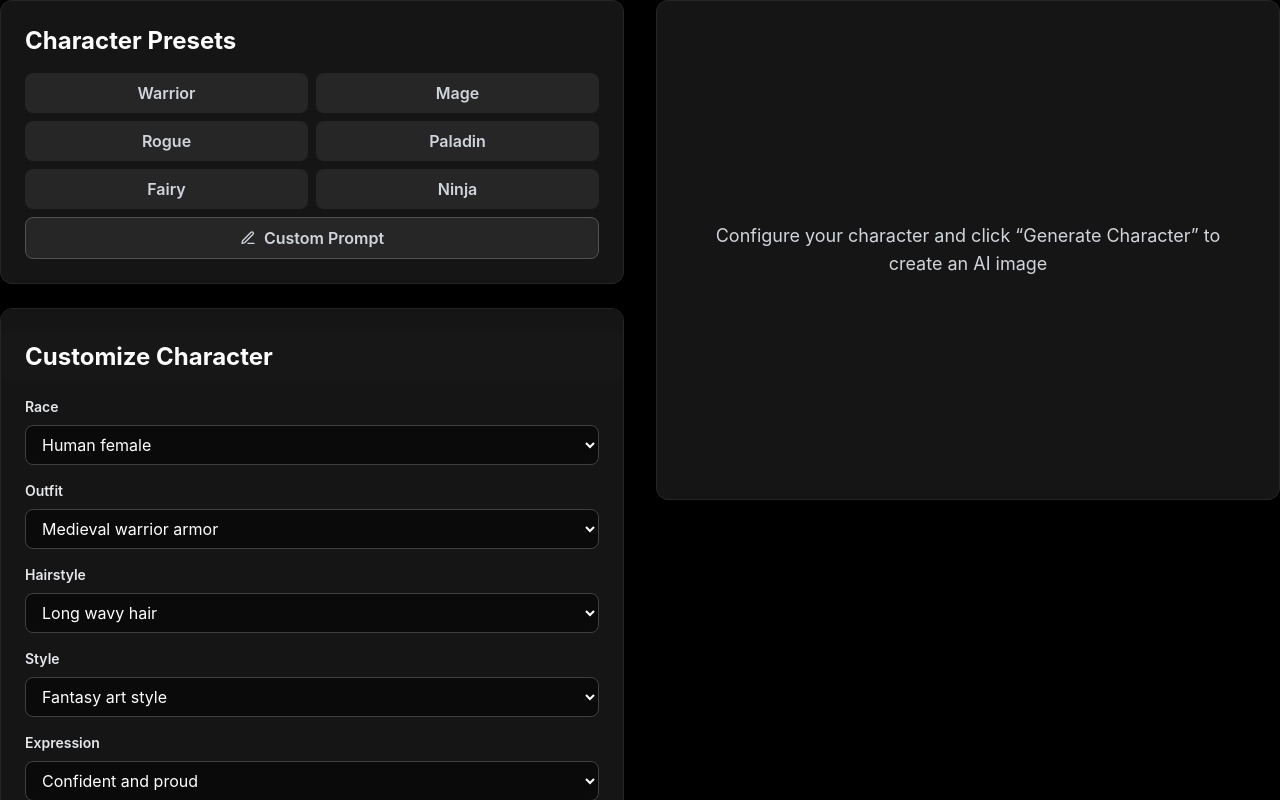
Test: CharacterCustomizer › applying a preset resets the dropdowns
Click the button "warrior". click: (166, 93)
box: [25, 73, 308, 113]
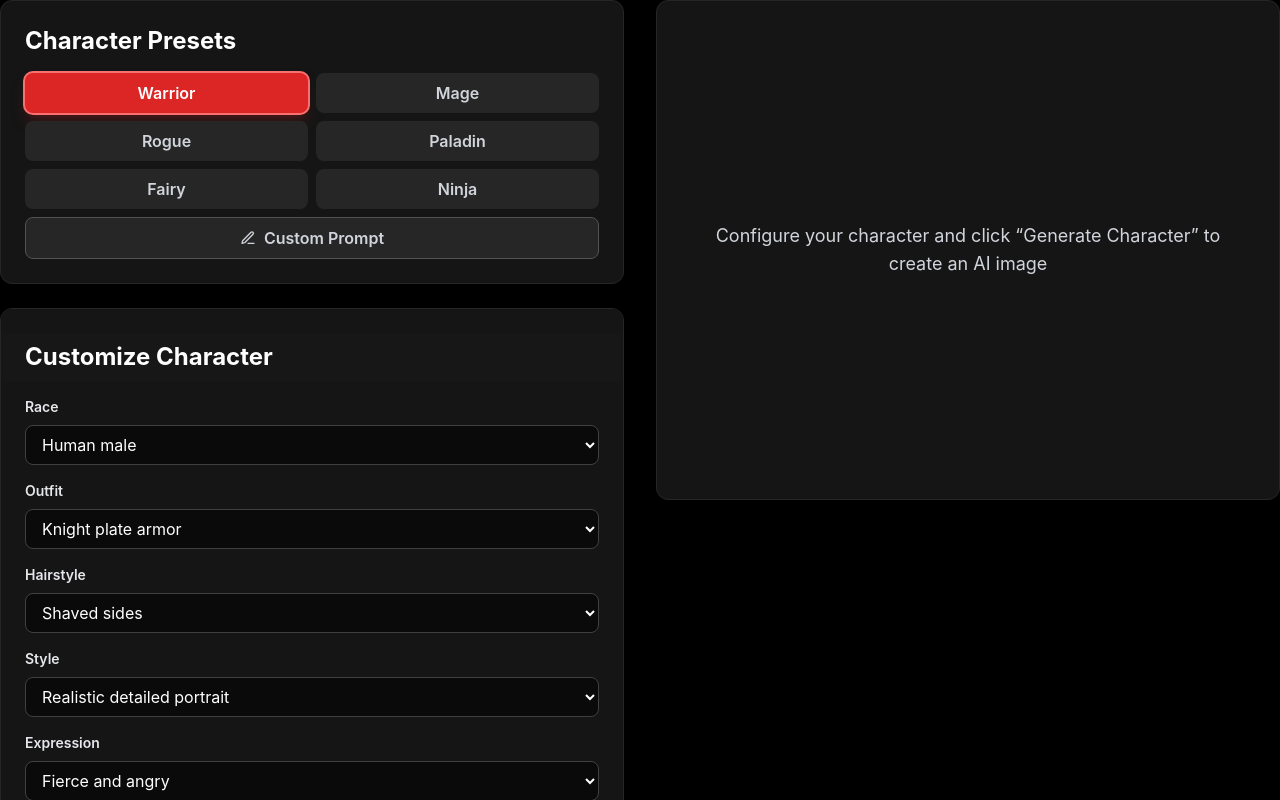
Expected: the dropdown showing "Human male" below "race" shows "Human male", [25, 425, 599, 465]
